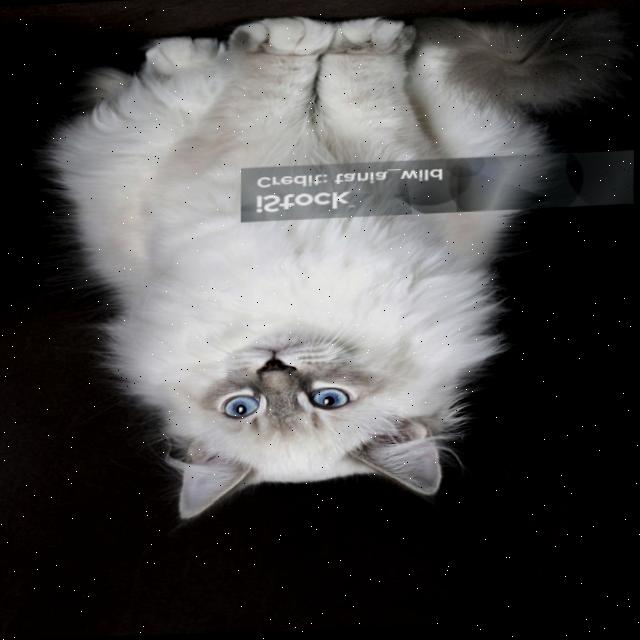Neva Masquerade: (27, 0, 640, 531)
